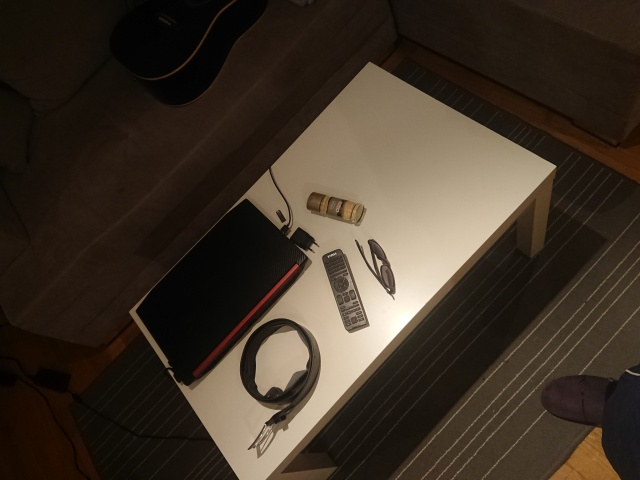Kotanyi Garlic Granules 70g: (305, 190, 368, 228)
